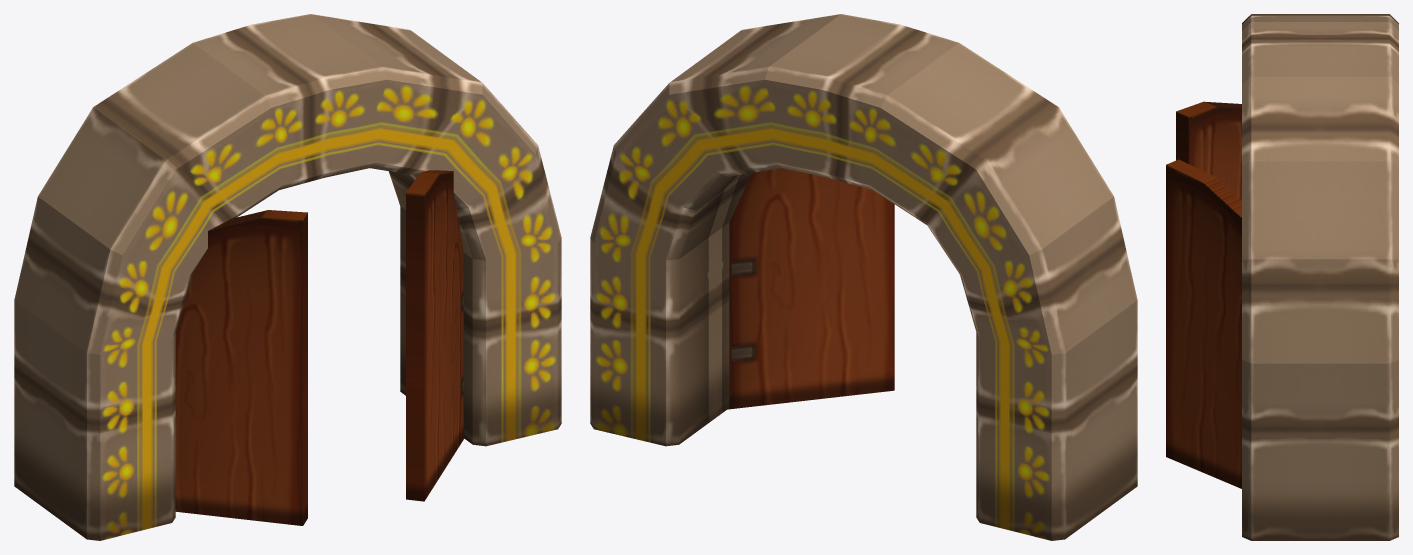
File: Gate_02.FBX
The picture shows the model from 3 angles, left to right: view 1: azimuth 30°, elevation 25°; view 2: azimuth 150°, elevation 25°; view 3: azimuth 270°, elevation 25°; orthographic projection. The views are drawn at different scales.
Parts seen in each view (by area): view 1: Gate, DoorL, DooR; view 2: Gate, DooR; view 3: Gate, DooR, DoorL.
Boxes of the visible parts, x1,y1,x2,y2 form: Gate: [14, 14, 561, 540]; DoorL: [175, 210, 307, 525]; DooR: [406, 170, 464, 501]; Gate: [590, 14, 1137, 540]; DooR: [727, 168, 894, 409]; Gate: [1242, 14, 1398, 540]; DooR: [1166, 159, 1241, 488]; DoorL: [1176, 101, 1241, 200].
Size of the model in its own units: 0.8647 by 0.7043 by 0.3857.
